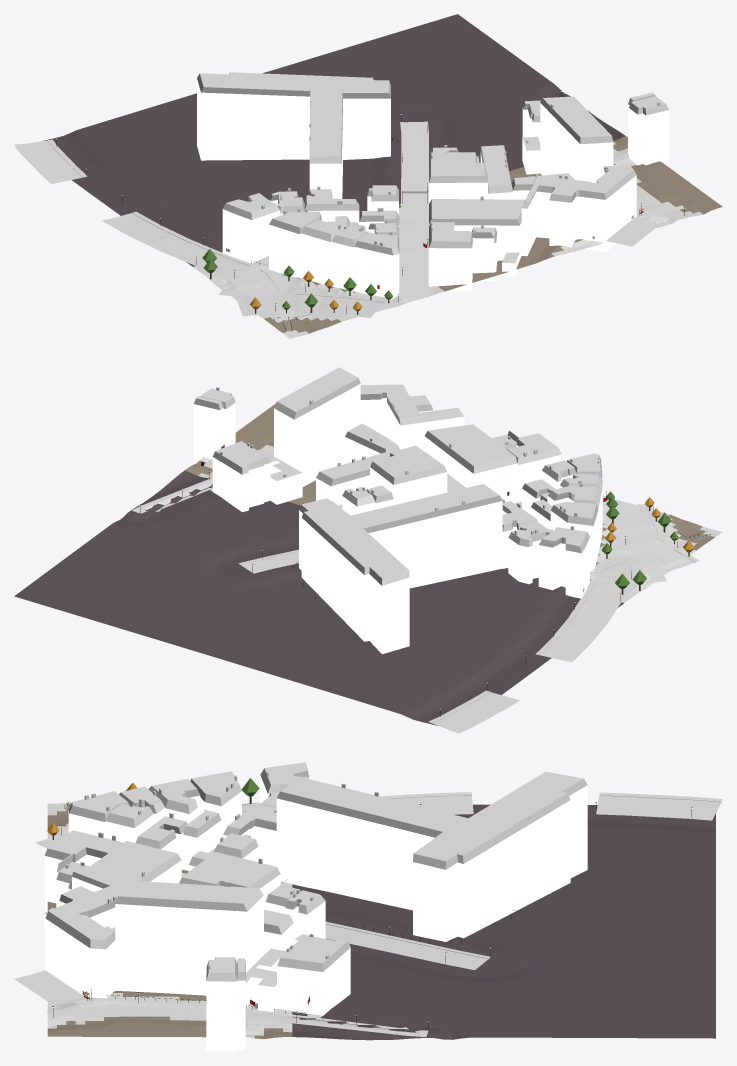
File: zone_H7.glb
3 renders of one model, top to bottom at view 1: azimuth 30°, elevation 25°; view 2: azimuth 150°, elevation 25°; view 3: azimuth 270°, elevation 25°, orthographic. The views are drawn at different scales.
Visible parts, largest first — view 1: zone_H7_batiments, zone_H7_terrain, zone_H7_sol_NOCOL, zone_H7_decor_NOCOL; view 2: zone_H7_batiments, zone_H7_terrain, zone_H7_sol_NOCOL, zone_H7_decor_NOCOL; view 3: zone_H7_batiments, zone_H7_terrain, zone_H7_sol_NOCOL, zone_H7_decor_NOCOL.
Part boxes in pixels (x1=…): zone_H7_batiments: x1=197, y1=72, x2=669, y2=298; zone_H7_terrain: x1=42, y1=14, x2=722, y2=338; zone_H7_sol_NOCOL: x1=14, y1=121, x2=684, y2=336; zone_H7_decor_NOCOL: x1=56, y1=90, x2=684, y2=330; zone_H7_batiments: x1=193, y1=367, x2=602, y2=654; zone_H7_terrain: x1=14, y1=403, x2=722, y2=725; zone_H7_sol_NOCOL: x1=131, y1=452, x2=720, y2=733; zone_H7_decor_NOCOL: x1=139, y1=470, x2=710, y2=716; zone_H7_batiments: x1=44, y1=762, x2=587, y2=1051; zone_H7_terrain: x1=47, y1=802, x2=715, y2=1040; zone_H7_sol_NOCOL: x1=14, y1=792, x2=722, y2=1036; zone_H7_decor_NOCOL: x1=47, y1=778, x2=692, y2=1031.
Size of the model in its own units: 214 by 46.16 by 226.
